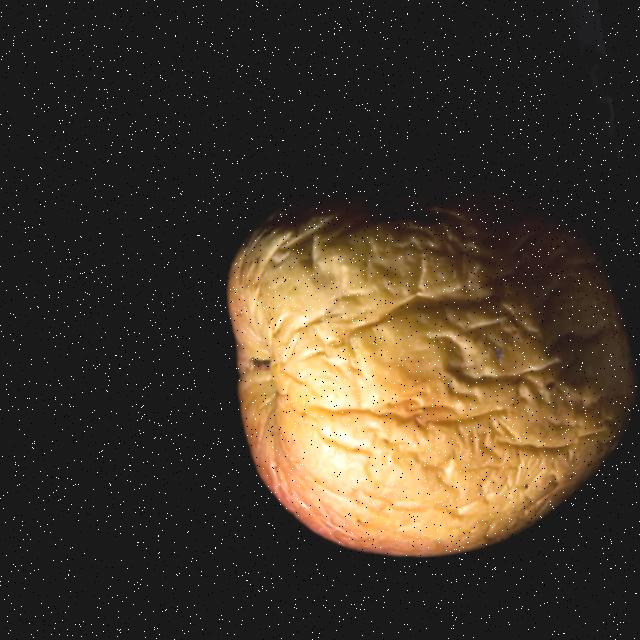overripe: (205, 167, 640, 584)
